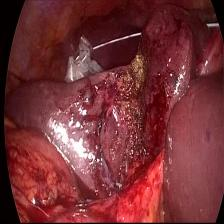Specimen Bag: (65, 29, 140, 82)
